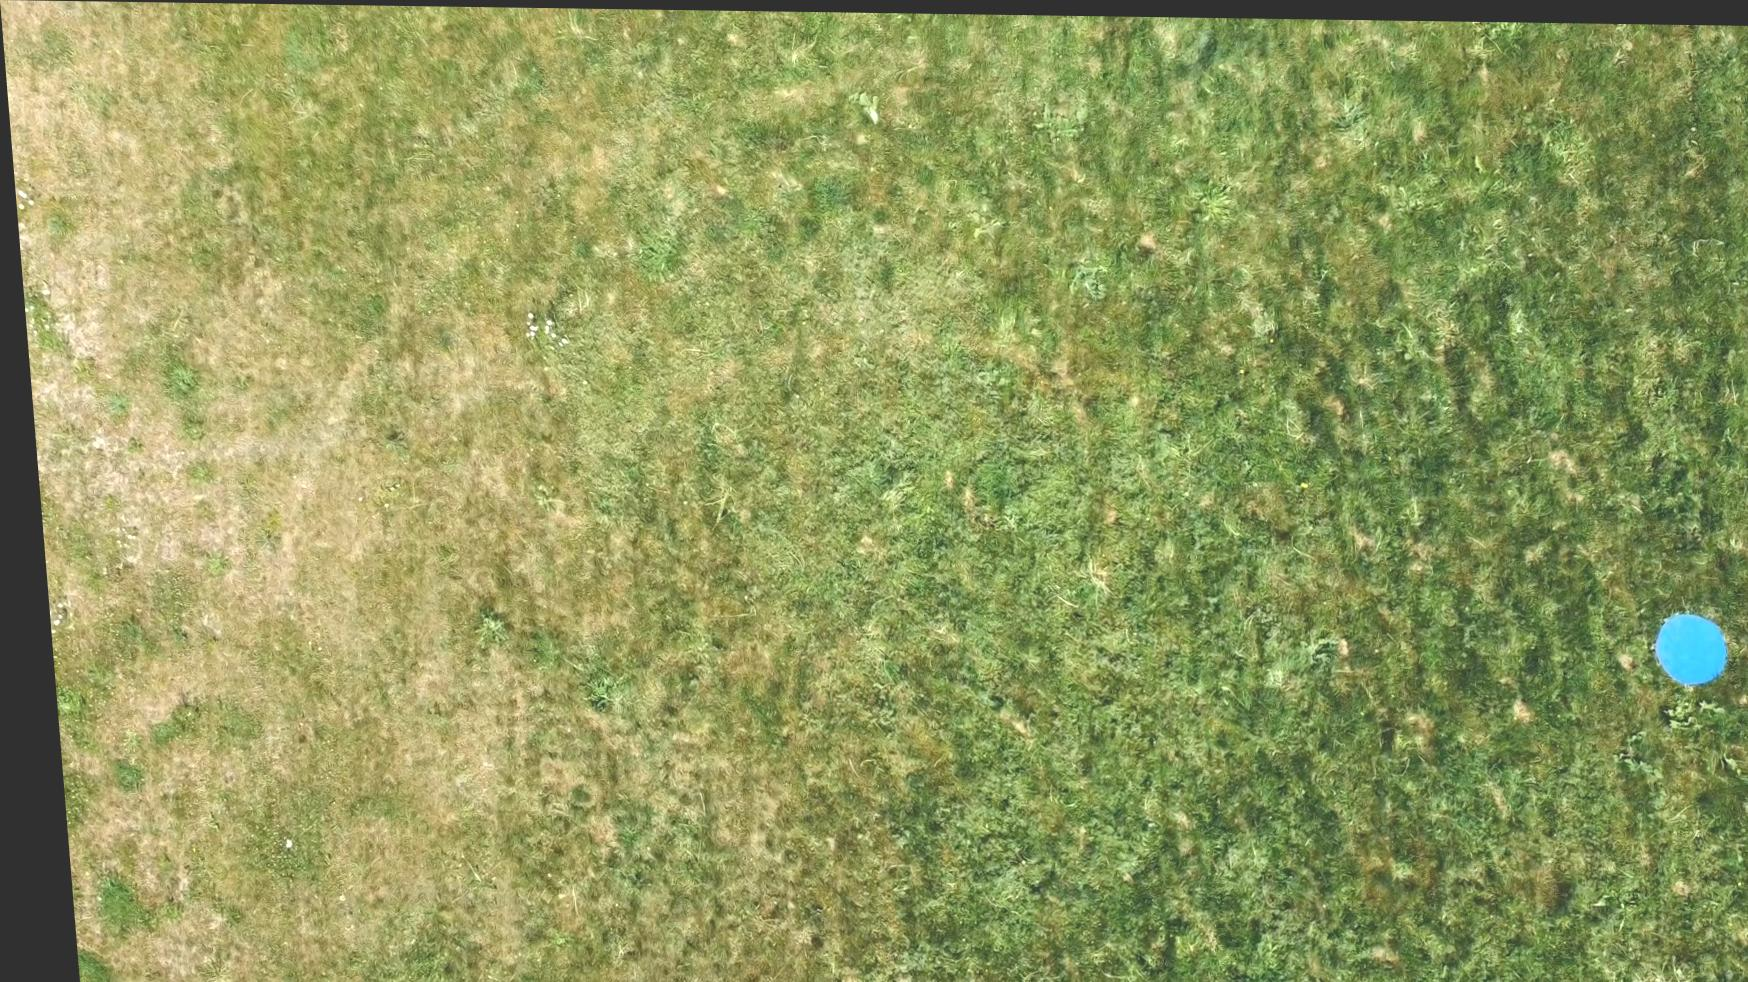Blue: (1639, 606, 1725, 683)
